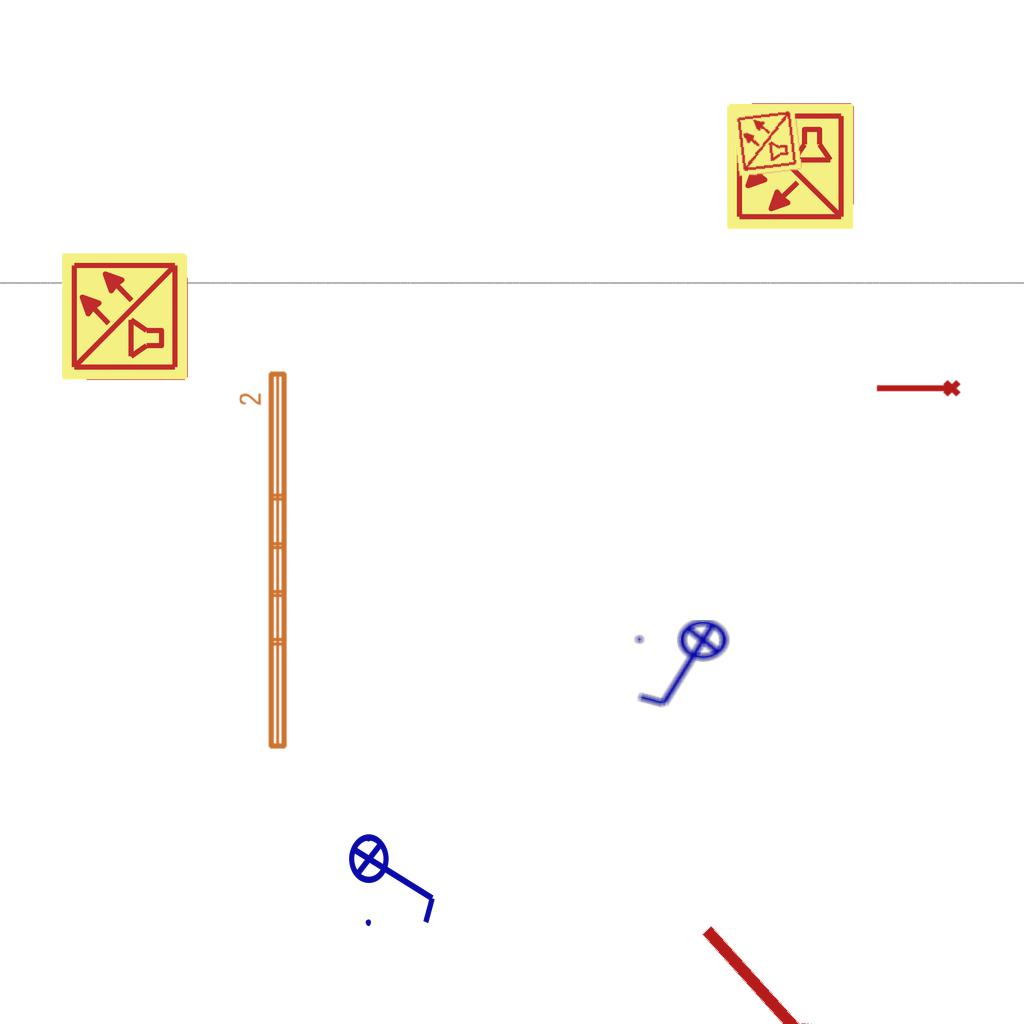ASR_Ansaugoeffnung: (684, 912, 836, 1024), (874, 378, 962, 401)
Ambulanz_Pendelleuchte_LED: (237, 367, 293, 754)
Ausschalter_beleuchtet: (630, 618, 742, 714), (347, 820, 443, 932)
OKW_Multisensormelder_(Kombination_optischer_Rauch-Kahlenmonoxid_Waerme-Melder): (724, 100, 856, 232), (59, 250, 191, 382), (730, 104, 804, 178)
